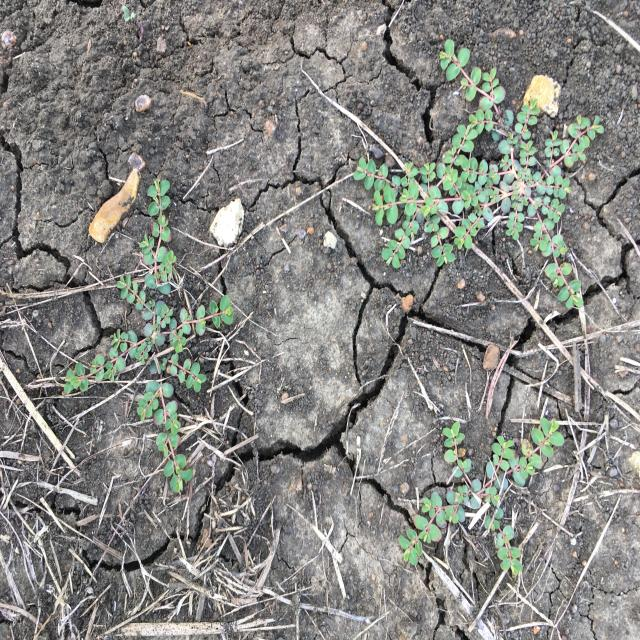SpottedSpurge: (352, 38, 606, 312), (58, 173, 235, 501), (397, 415, 566, 582)
